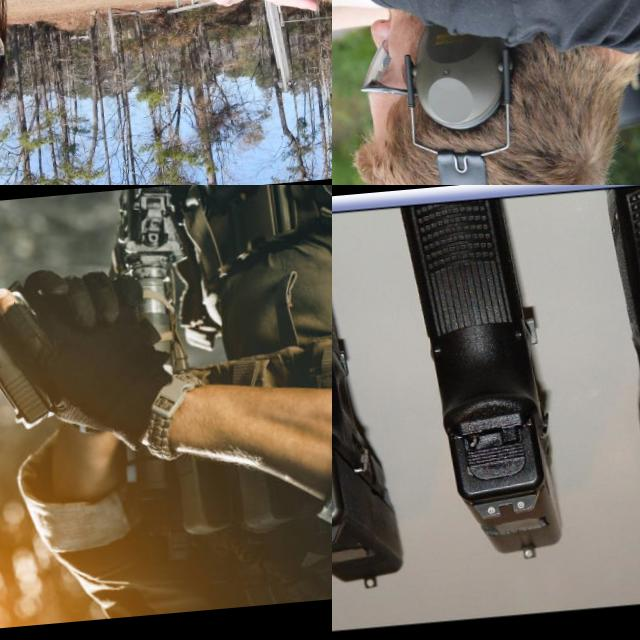handgun: (397, 196, 566, 571), (332, 210, 435, 602), (0, 225, 76, 439), (602, 185, 640, 526), (332, 72, 374, 129), (285, 0, 332, 30)
